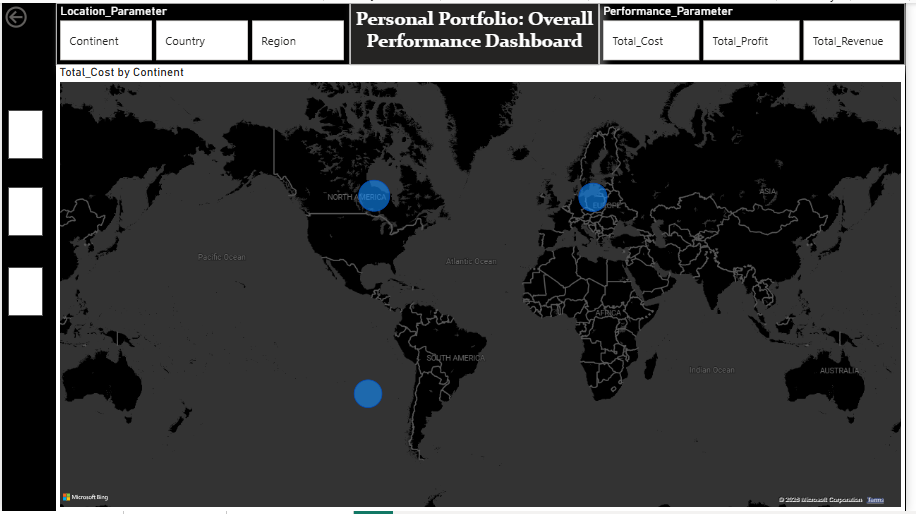

The dashboard page shown, as its layout file describes it:
{"tool":"powerbi","page":{"name":"Map_Visual","canvas":[1280,720],"ordinal":1},"visuals":[{"type":"actionButton","box":[0,0,100,40],"z":0},{"type":"advancedSlicerVisual","fields":{"Values":["Location_Parameter.Location_Parameter"]},"box":[76.5,0,416.7,87.9],"z":1000},{"type":"advancedSlicerVisual","fields":{"Values":["Index_Parameter.Index_Parameter"]},"box":[846.1,0,433.7,87.9],"z":2000},{"type":"map","fields":{"Category":["Territory Lookup.Continent","Territory Lookup.Country","Territory Lookup.Region"],"Size":["@Measure_Table.Total_Cost"]},"box":[76.5,87.9,1203.3,632.1],"z":3000},{"type":"textbox","box":[493.2,0,352.9,87.9],"z":4000},{"type":"shape","box":[8.5,151.7,49.6,69.4],"z":5000},{"type":"shape","box":[8.5,374.2,49.6,69.4],"z":6000},{"type":"shape","box":[8.5,260.8,49.6,69.4],"z":7000}]}

Visuals, with their boxes in screenshot pixels (x1, y1, x2, y2), scaled from the page's 1280x720 canvas onto the 916x514 screenshot:
actionButton: {"left": 0, "top": 0, "right": 72, "bottom": 29}
advancedSlicerVisual - Location_Parameter.Location_Parameter: {"left": 55, "top": 0, "right": 353, "bottom": 63}
advancedSlicerVisual - Index_Parameter.Index_Parameter: {"left": 605, "top": 0, "right": 915, "bottom": 63}
map - Territory Lookup.Continent x Territory Lookup.Country: {"left": 55, "top": 63, "right": 915, "bottom": 513}
textbox: {"left": 353, "top": 0, "right": 605, "bottom": 63}
shape: {"left": 6, "top": 108, "right": 42, "bottom": 158}
shape: {"left": 6, "top": 267, "right": 42, "bottom": 317}
shape: {"left": 6, "top": 186, "right": 42, "bottom": 236}
